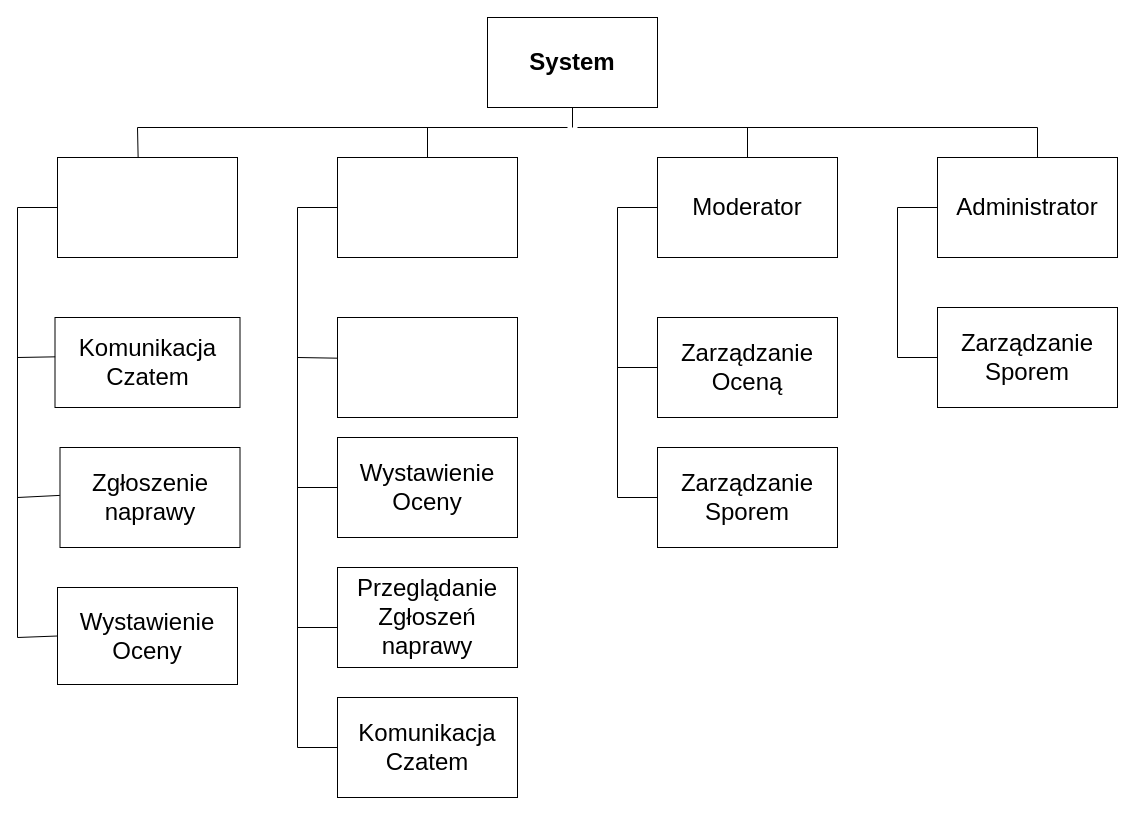
The diagram is 1135 pixels wide and 815 high, and some of its shapes have lost their labels. The shapes that lost their labels are listed below. From the top down, each one's centre as x and y in pixels, then its label:
At point (147, 207): "Właściciel Samochodu".
At point (427, 207): "Serwis Samochodowy".
At point (427, 367): "Odpowiedź na zgłoszenie".
